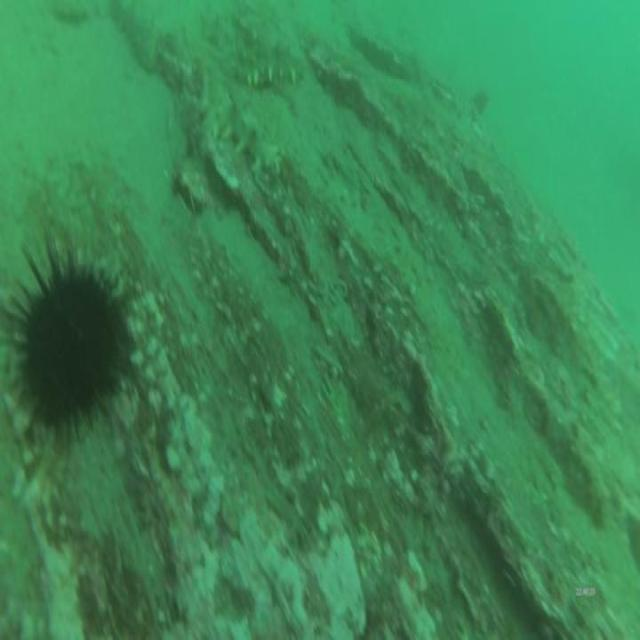echinus: (1, 238, 138, 454)
holothurian: (204, 94, 280, 184), (234, 49, 306, 96)
